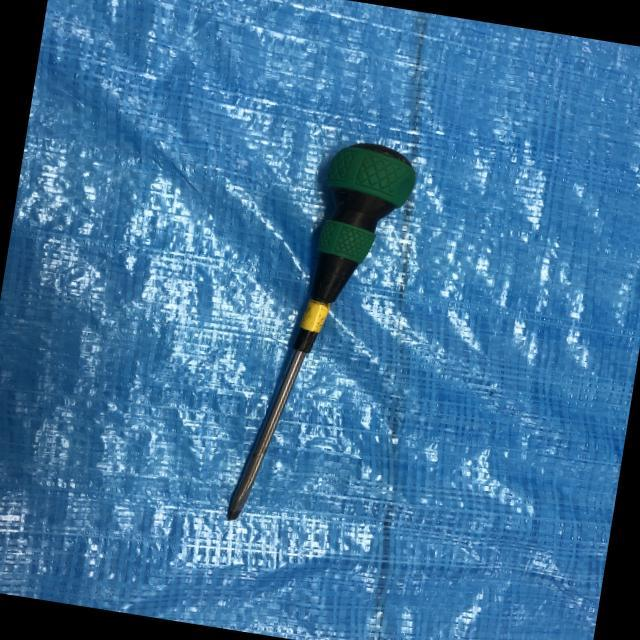screwdriver: (220, 125, 434, 550)
